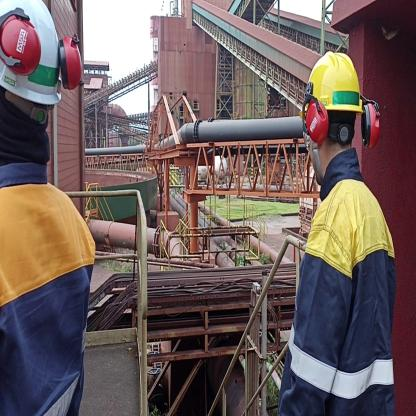Balaclava: (0, 91, 51, 163)
C_eletrica: (290, 197, 394, 416)
Capacete: (0, 0, 65, 99), (302, 50, 370, 113)
Operacional: (1, 168, 90, 416)
